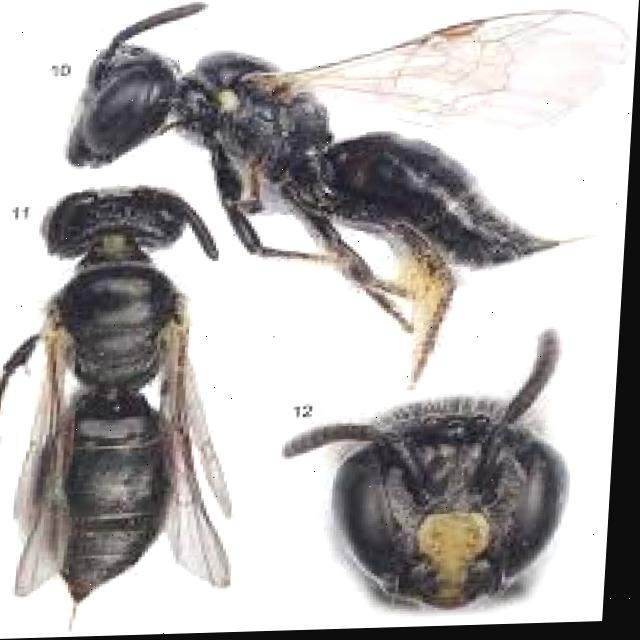Braunsapis: (64, 0, 640, 348), (0, 172, 259, 617), (261, 318, 608, 618)
